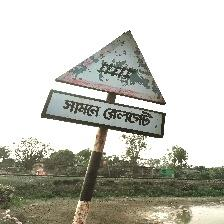Rail-crossing: (42, 30, 168, 138)
